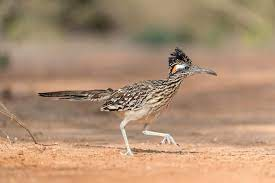Walking: (35, 39, 219, 165)
